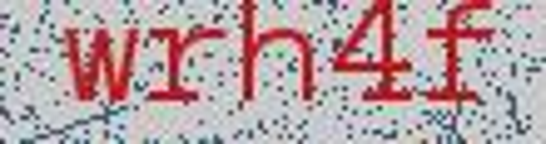4: (325, 1, 418, 112)
f: (423, 1, 510, 116)
h: (229, 1, 320, 124)
r: (145, 13, 230, 114)
w: (54, 16, 138, 115)
